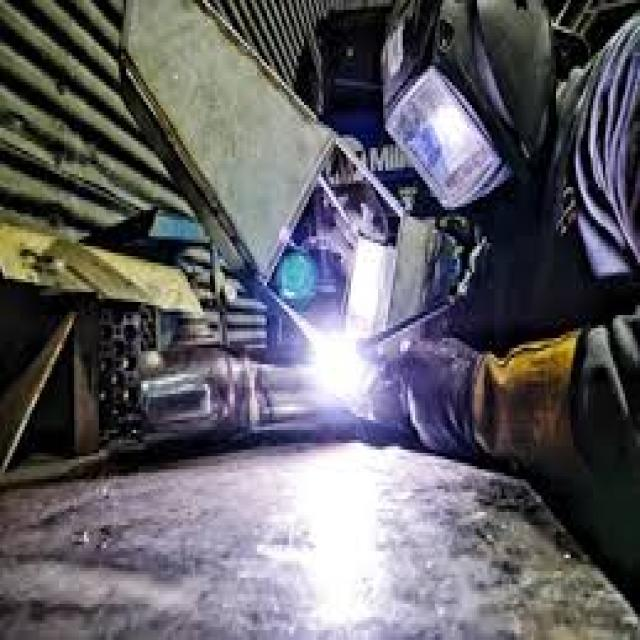welding: (317, 328, 366, 391)
